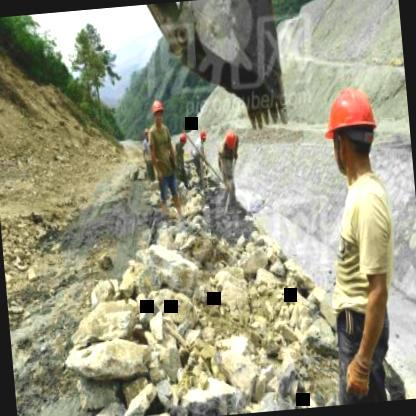helmet: (320, 80, 388, 186), (150, 99, 167, 126), (224, 128, 238, 150), (198, 127, 208, 144), (178, 130, 188, 146)
